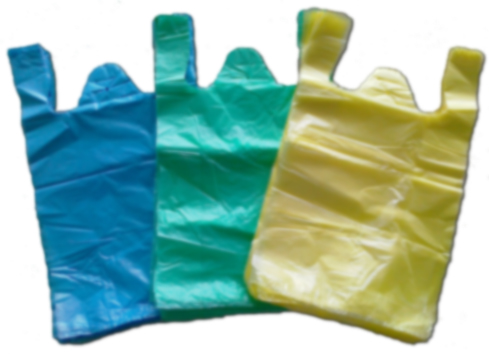Nonrec_Plastic: (8, 11, 484, 345), (230, 22, 485, 336), (10, 28, 232, 341)
